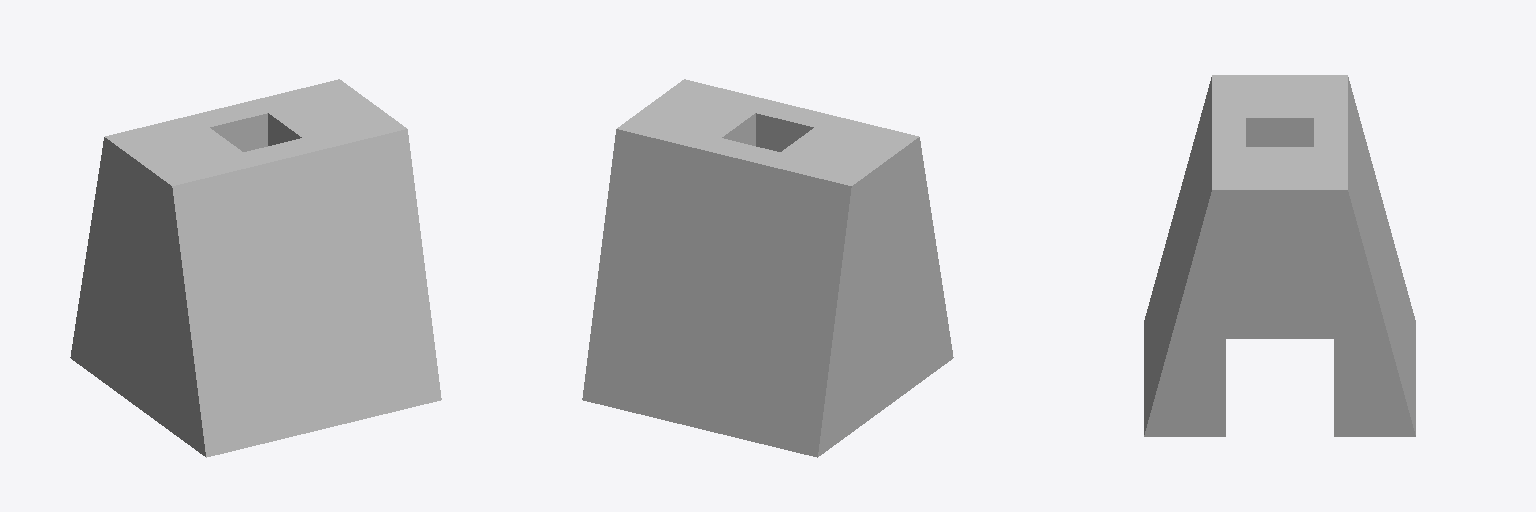
The model's file is kiln_base.obj.
3 renders of one model, left to right at view 1: azimuth 30°, elevation 25°; view 2: azimuth 150°, elevation 25°; view 3: azimuth 270°, elevation 25°, orthographic.
Visible parts, largest first — view 1: Cube; view 2: Cube; view 3: Cube.
Boxes of the visible parts, box(x1,y1,x2,y2) form: Cube: box(70, 79, 441, 457); Cube: box(582, 79, 953, 457); Cube: box(1144, 75, 1415, 436).
Size of the model in its own units: 1 by 1 by 1.